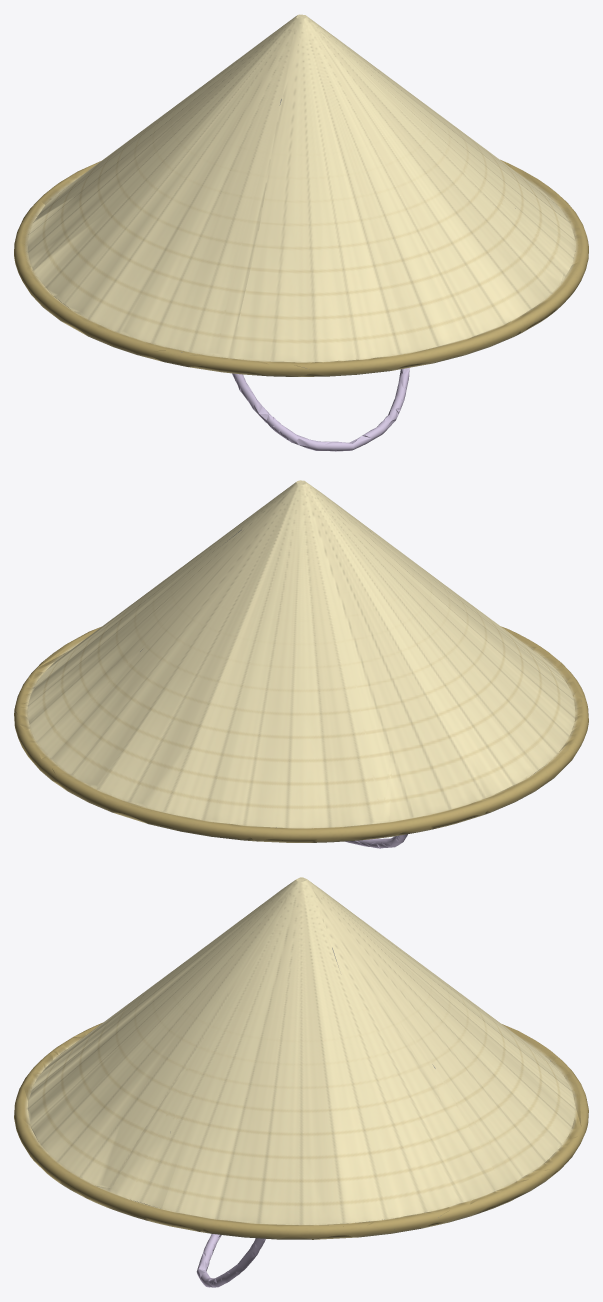
The model's file is non_la_edits.glb.
The picture shows the model from 3 angles, top to bottom: view 1: azimuth 30°, elevation 25°; view 2: azimuth 150°, elevation 25°; view 3: azimuth 270°, elevation 25°; orthographic projection.
Parts seen in each view (by area): view 1: non_la_edits; view 2: non_la_edits; view 3: non_la_edits.
Part boxes in pixels (x1=…): non_la_edits: x1=14, y1=14, x2=588, y2=451; non_la_edits: x1=14, y1=480, x2=588, y2=848; non_la_edits: x1=14, y1=877, x2=588, y2=1287.
Size of the model in its own units: 0.4138 by 0.3153 by 0.4138.
1 material, 1 textured.
